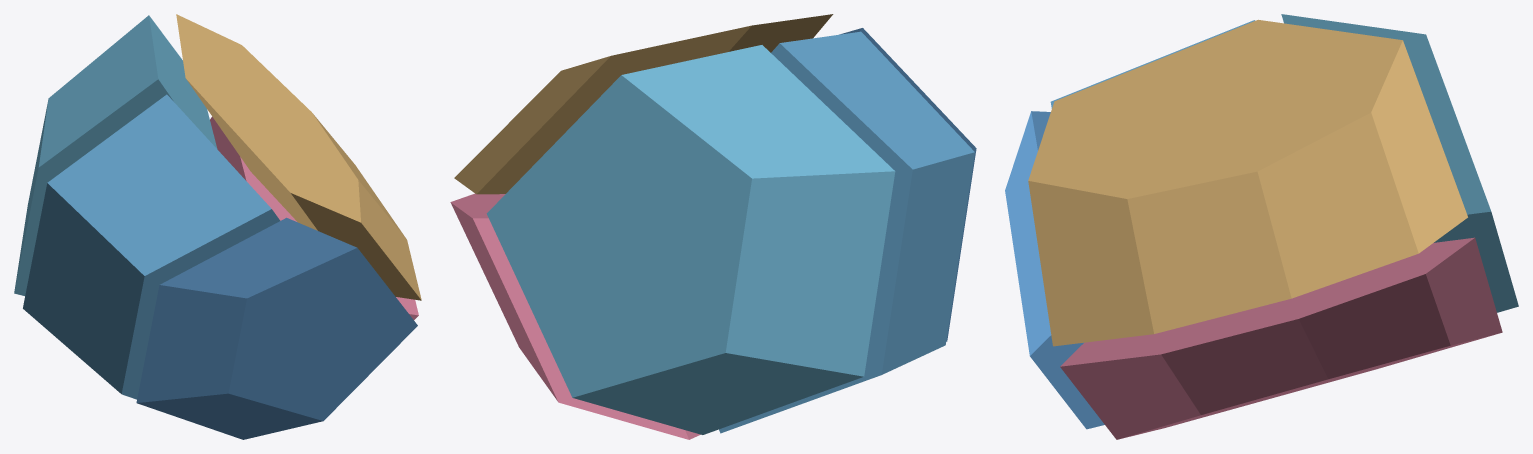
The model's file is example.gltf.
3 views of the same model, side by side, from view 1: azimuth 30°, elevation 25°; view 2: azimuth 150°, elevation 25°; view 3: azimuth 270°, elevation 25° (orthographic). The views are drawn at different scales.
Parts seen in each view (by area): view 1: duoprism_5_7; view 2: duoprism_5_7; view 3: duoprism_5_7.
Boxes of the visible parts, left/top/right/bottom form: duoprism_5_7: left=14, top=14, right=421, bottom=439; duoprism_5_7: left=450, top=14, right=976, bottom=439; duoprism_5_7: left=1005, top=14, right=1518, bottom=439.
Size of the model in its own units: 2.3 by 2.34 by 2.68.
